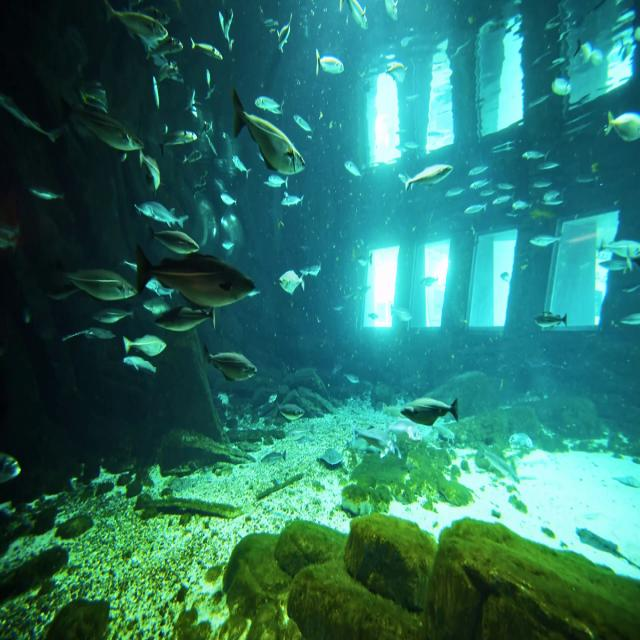fish: (134, 250, 256, 309), (233, 89, 306, 180), (100, 0, 174, 63), (50, 262, 138, 302), (399, 161, 452, 193), (201, 348, 254, 380), (402, 398, 456, 428), (125, 332, 167, 359), (276, 266, 307, 294)
